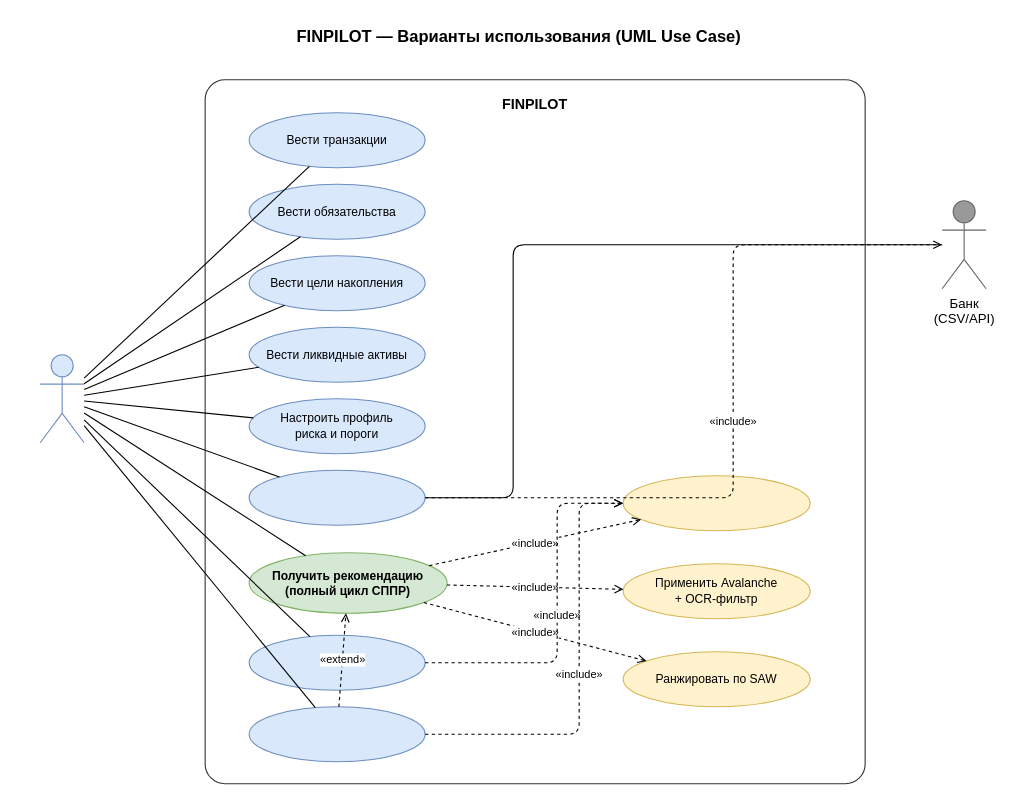
This 1013x803 diagram has some shape labels left out. Here are the shapes that lost their labels. From the top down, the box of each, then its label:
(39, 354, 84, 443): Пользователь
(248, 469, 425, 525): Импортировать выписку
(622, 475, 810, 531): Рассчитать базовые показатели
(248, 634, 425, 690): Посмотреть дашборд показателей
(248, 706, 425, 762): Построить прогноз Rt/Lt/Dt
